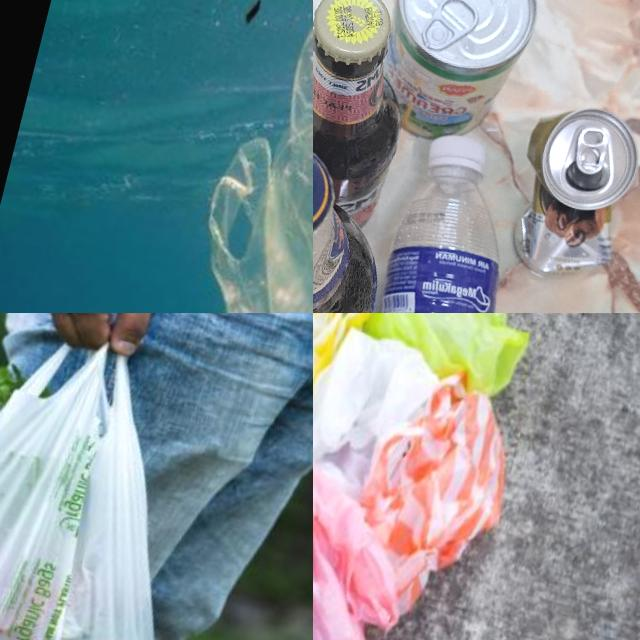aba de lata: (418, 0, 482, 60), (567, 124, 614, 180)
garrafa de vidro: (313, 0, 429, 232), (313, 124, 408, 313)
garrafa plástica: (331, 126, 557, 313)
lata: (365, 0, 547, 157), (497, 95, 640, 286)
sacola plástica: (0, 313, 235, 640), (147, 0, 313, 313), (366, 367, 538, 588), (313, 457, 430, 640), (336, 313, 556, 405), (313, 328, 432, 490)
tampa plástica: (423, 129, 488, 191)
